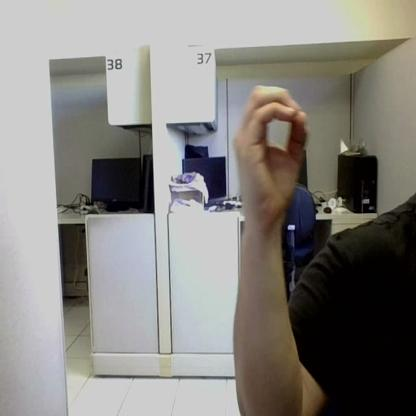O: (233, 84, 308, 212)
